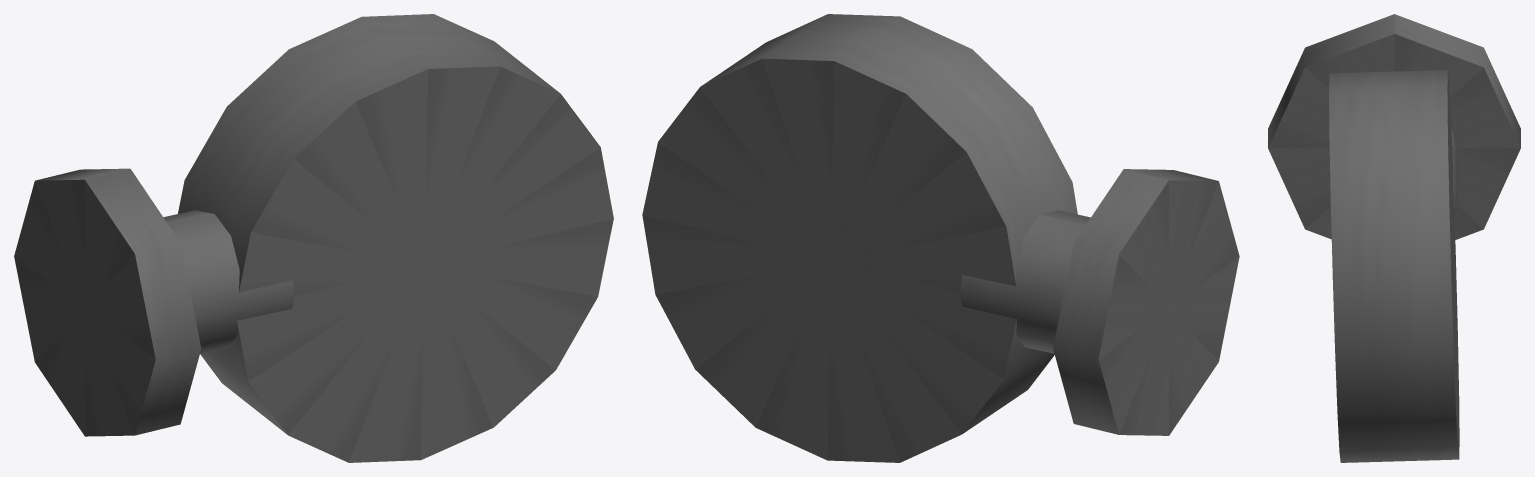
File: mastarmcurve_8x2_c9_west.obj
The picture shows the model from 3 angles, left to right: view 1: azimuth 30°, elevation 25°; view 2: azimuth 150°, elevation 25°; view 3: azimuth 270°, elevation 25°; orthographic projection. The views are drawn at different scales.
Visible parts, largest first — view 1: mastarm_8x2_c9_west; view 2: mastarm_8x2_c9_west; view 3: mastarm_8x2_c9_west.
Part boxes in pixels (box(x1,y1,x2,y2)): mastarm_8x2_c9_west: box(14, 14, 613, 462); mastarm_8x2_c9_west: box(642, 14, 1239, 462); mastarm_8x2_c9_west: box(1268, 14, 1520, 462).
Bounding box in the file's own units: 0.808 × 0.6227 × 0.4.
